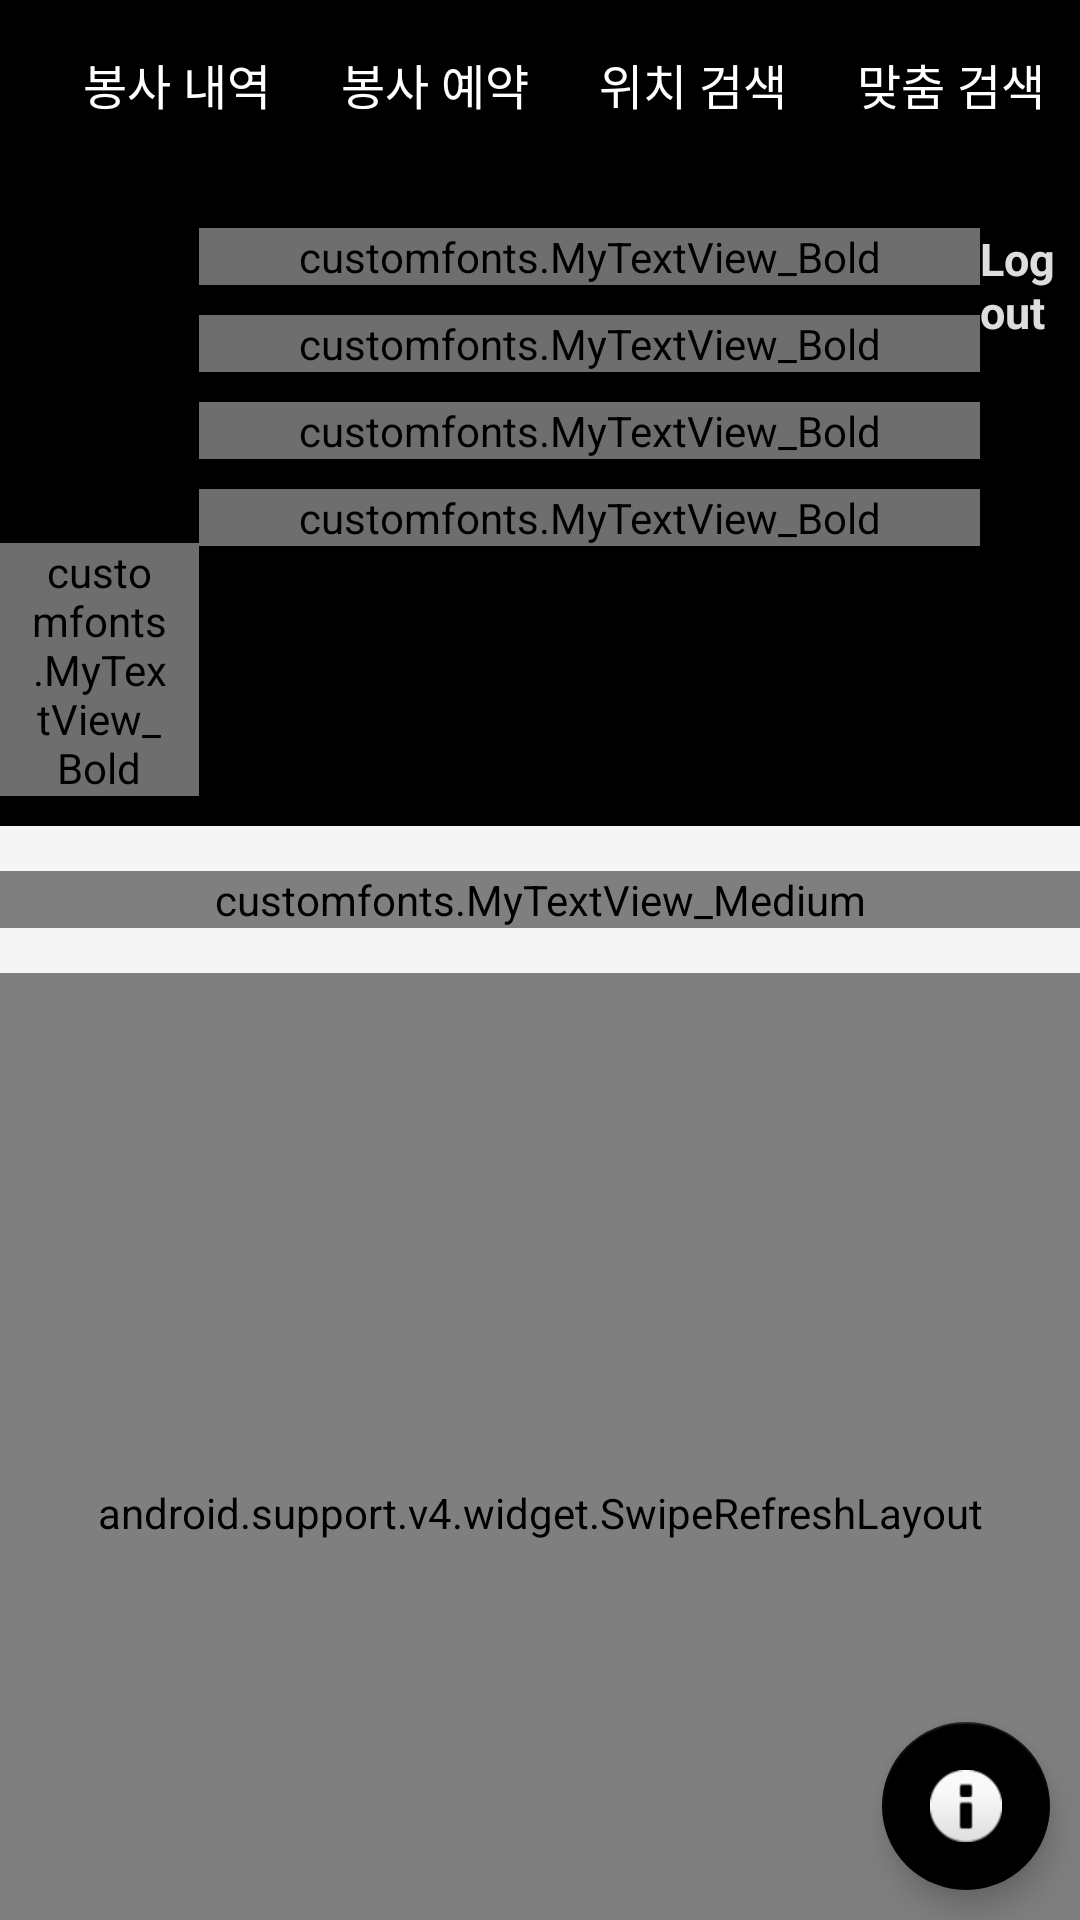

Icons on this 1080 × 1920 Android screen, each with its box as box=[x1, y1, x2, y2]:
info: box=[882, 1722, 1050, 1890]
